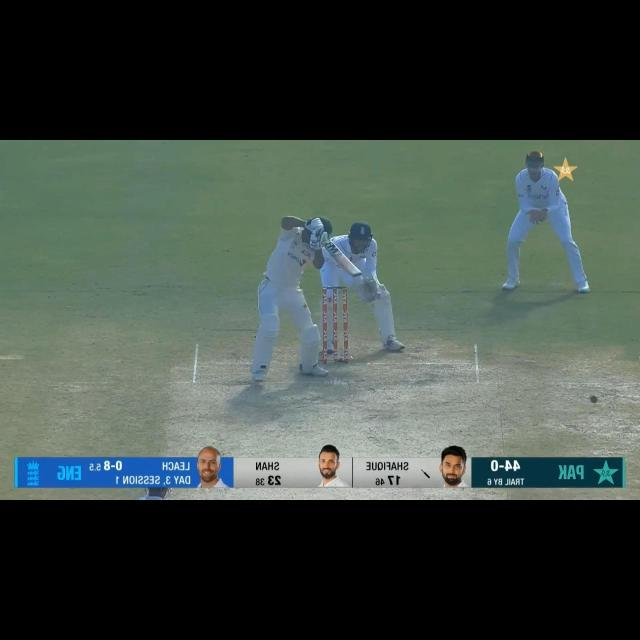bat: (323, 239, 362, 277)
toe: (349, 268, 362, 277)
